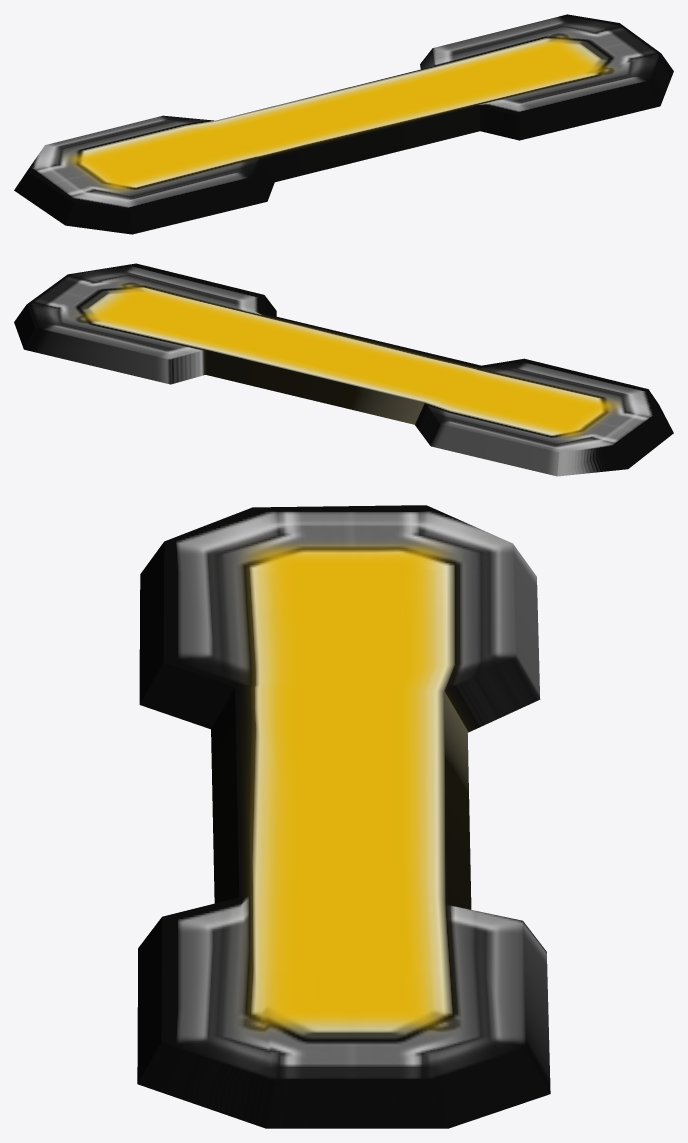
The model's file is light_7.FBX.
3 renders of one model, top to bottom at view 1: azimuth 30°, elevation 25°; view 2: azimuth 150°, elevation 25°; view 3: azimuth 270°, elevation 25°, orthographic. The views are drawn at different scales.
Visible parts, largest first — view 1: light_7; view 2: light_7; view 3: light_7.
Boxes of the visible parts, x1,y1,x2,y2 form: light_7: (14, 14, 673, 234); light_7: (14, 263, 673, 476); light_7: (137, 505, 550, 1128).
Bounding box in the file's own units: 39.18 × 1.14 × 11.47.
Materials: 1 (1 with a texture image).
